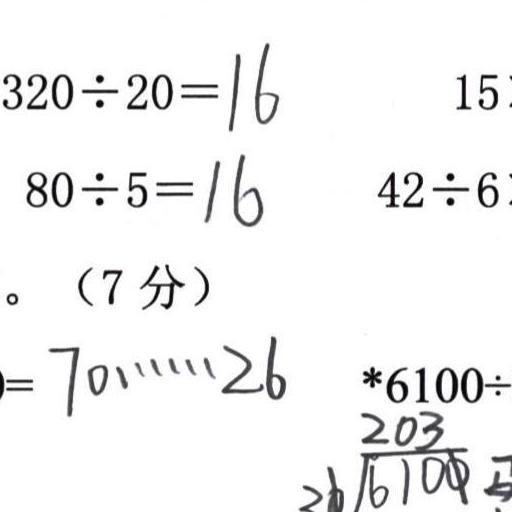ans: (46, 331, 285, 415), (220, 38, 280, 130), (197, 148, 263, 227)
